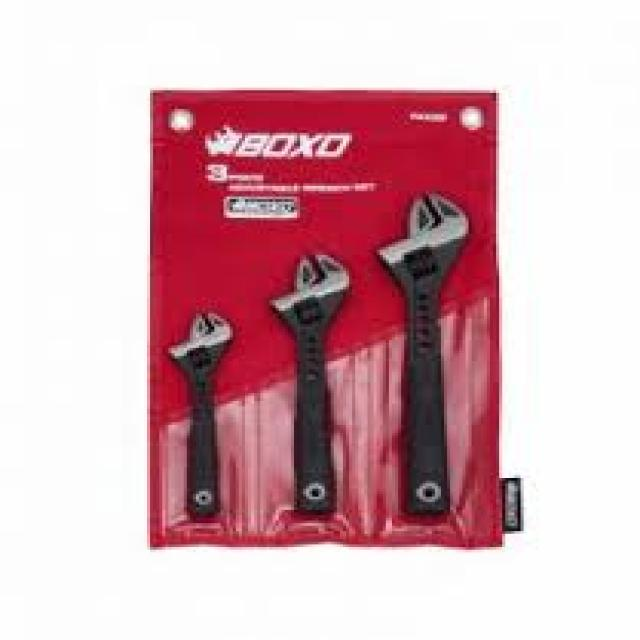wrench: (378, 180, 502, 531), (259, 241, 378, 541), (159, 304, 250, 551)
